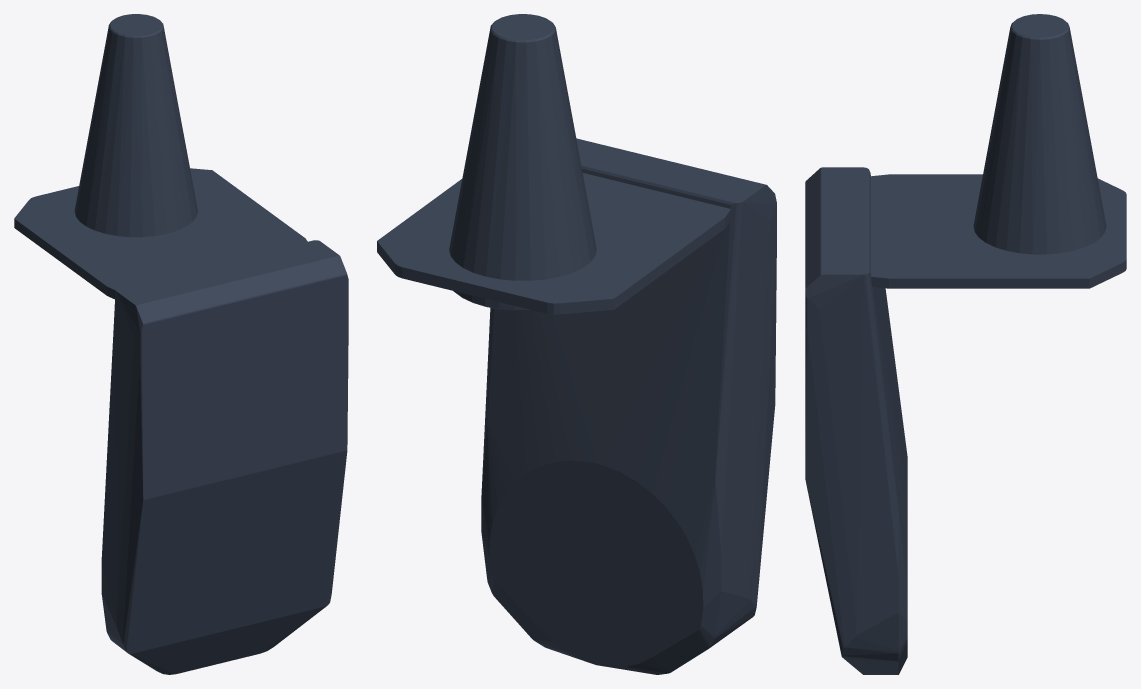
The model's file is wheel_mount.dae.
The picture shows the model from 3 angles, left to right: view 1: azimuth 30°, elevation 25°; view 2: azimuth 150°, elevation 25°; view 3: azimuth 270°, elevation 25°; orthographic projection. The views are drawn at different scales.
Parts seen in each view (by area): view 1: right_front_wheel_mount_link_001; view 2: right_front_wheel_mount_link_001; view 3: right_front_wheel_mount_link_001.
Part boxes in pixels (<box>): right_front_wheel_mount_link_001: <box>14,14,348,674</box>; right_front_wheel_mount_link_001: <box>377,14,776,674</box>; right_front_wheel_mount_link_001: <box>805,14,1126,674</box>.
Size of the model in its own units: 0.35 by 0.433 by 0.9262.
